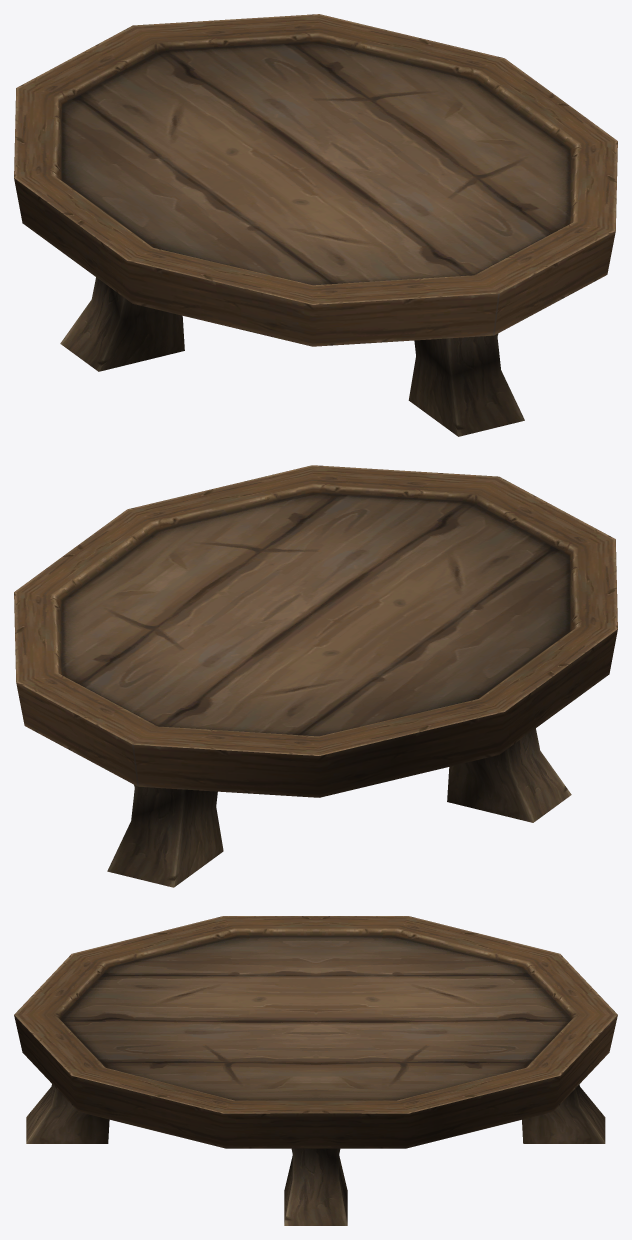
Rendered from 6hu_magetower_table01.obj.
The picture shows the model from 3 angles, top to bottom: view 1: azimuth 30°, elevation 25°; view 2: azimuth 150°, elevation 25°; view 3: azimuth 270°, elevation 25°; orthographic projection. The views are drawn at different scales.
Parts seen in each view (by area): view 1: 6HU_MAGETOWER_TABLE010; view 2: 6HU_MAGETOWER_TABLE010; view 3: 6HU_MAGETOWER_TABLE010.
Boxes of the visible parts, bbox=[...] form: 6HU_MAGETOWER_TABLE010: bbox=[14, 14, 617, 436]; 6HU_MAGETOWER_TABLE010: bbox=[14, 465, 617, 887]; 6HU_MAGETOWER_TABLE010: bbox=[14, 916, 617, 1225].
Bounding box in the file's own units: 3.62 × 0.9922 × 4.68.
1 material, 1 textured.
